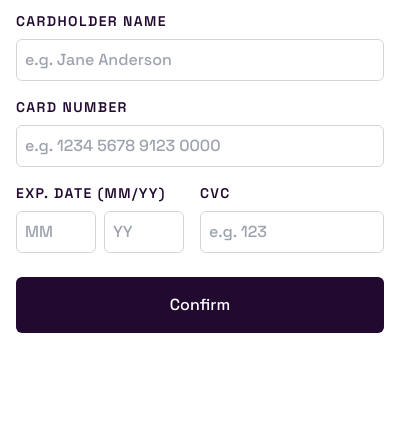
Scenario: Form › empty name input should show error message
Click the button with test id "submitBtn" at (200, 305), box left=16, top=277, right=384, bottom=333
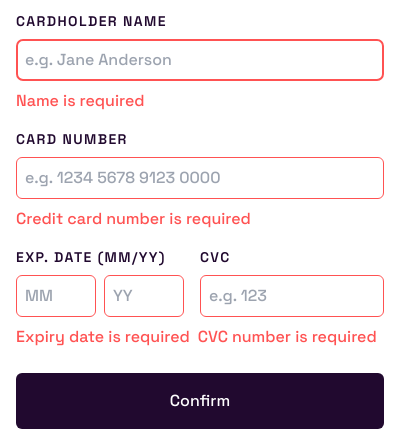
Expected: the message "Name is required" is shown, left=16, top=90, right=144, bottom=111
